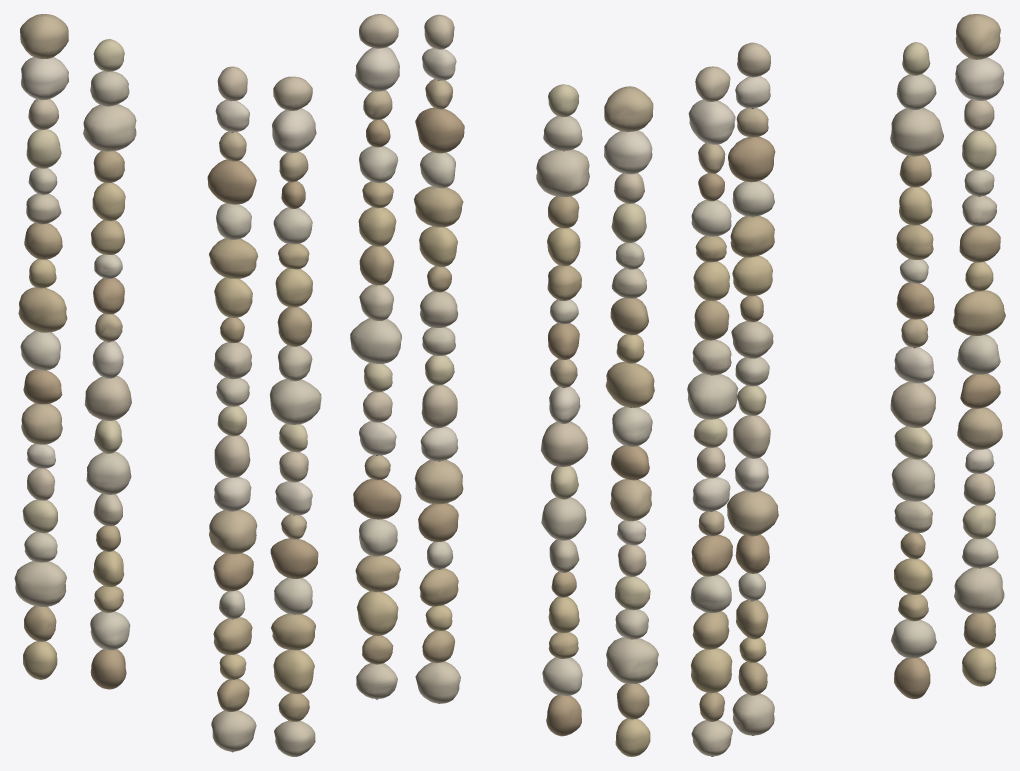
Rendered from gallery.glb.
The picture shows the model from 3 angles, left to right: view 1: azimuth 30°, elevation 25°; view 2: azimuth 210°, elevation 25°; view 3: azimuth 270°, elevation 25°; orthographic projection.
Visible parts, largest first — view 1: gallery; view 2: gallery; view 3: gallery.
Part boxes in pixels (x1=…): gallery: x1=14, y1=14, x2=321, y2=756; gallery: x1=350, y1=14, x2=658, y2=756; gallery: x1=687, y1=14, x2=1005, y2=756.
Size of the model in its own units: 0.6214 by 2.45 by 1.02.
